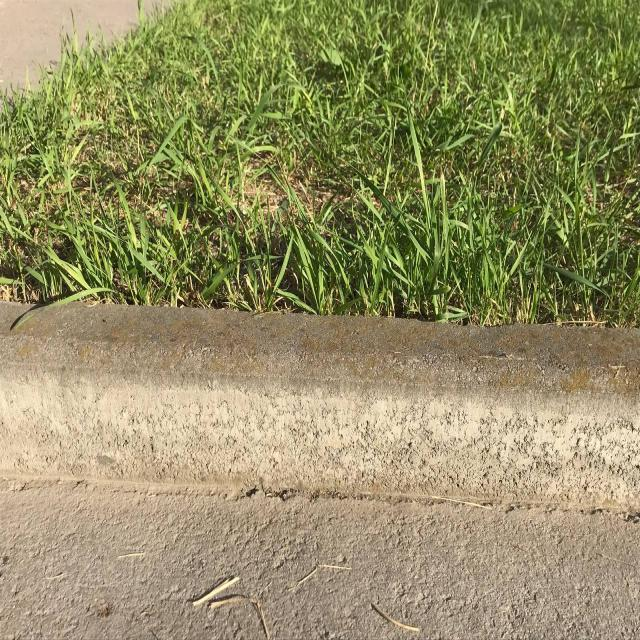bump: (0, 290, 640, 524)
